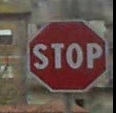stop: (26, 16, 109, 93)
